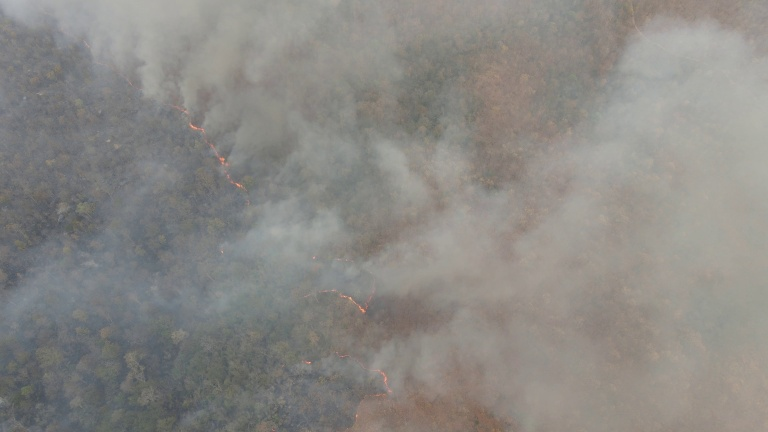fire: (160, 94, 262, 221), (330, 347, 393, 430), (62, 30, 137, 97), (296, 282, 378, 320), (310, 252, 354, 265), (300, 358, 316, 369), (218, 242, 228, 258)
smoke: (437, 32, 768, 415), (11, 5, 442, 256)
